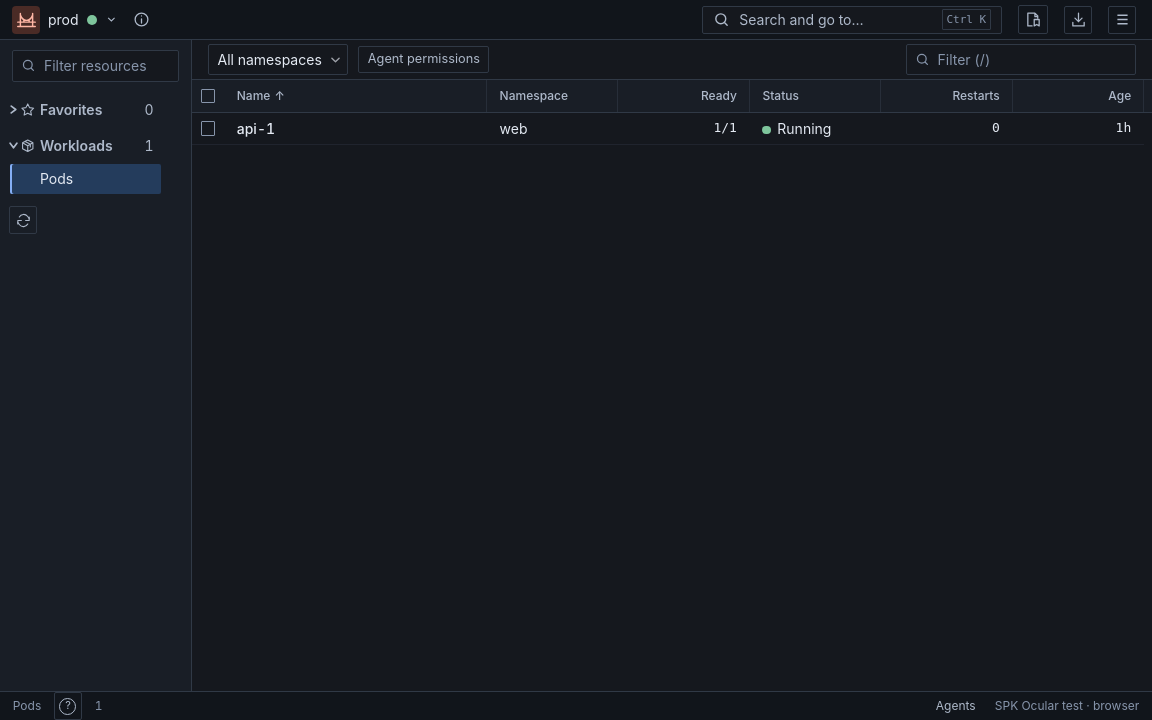
Test: values in the details › a kind with values has the section; the value is read for the object shown (its UID)
The image size is (1152, 720).
Click the text "api-1" at {"x": 256, "y": 128}, box left=237, top=120, right=275, bottom=137
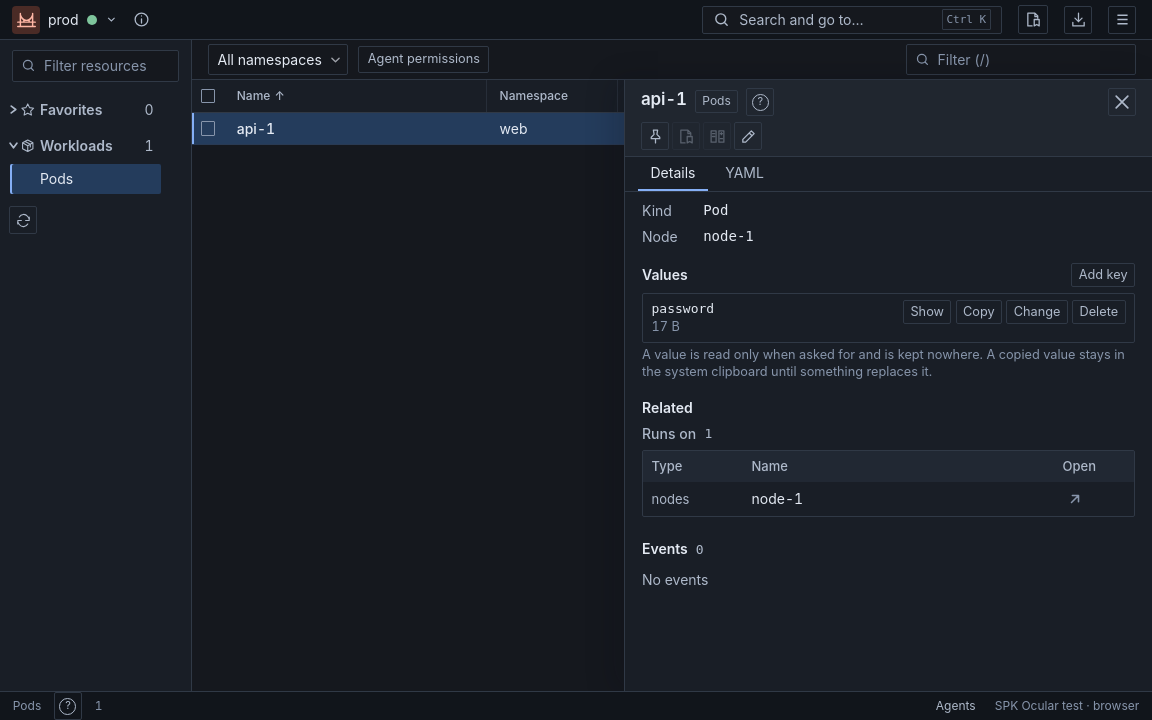
Check: the text "password" is shown, box left=652, top=301, right=714, bottom=316
Click the button "Show" at {"x": 927, "y": 312}, box left=903, top=300, right=951, bottom=324
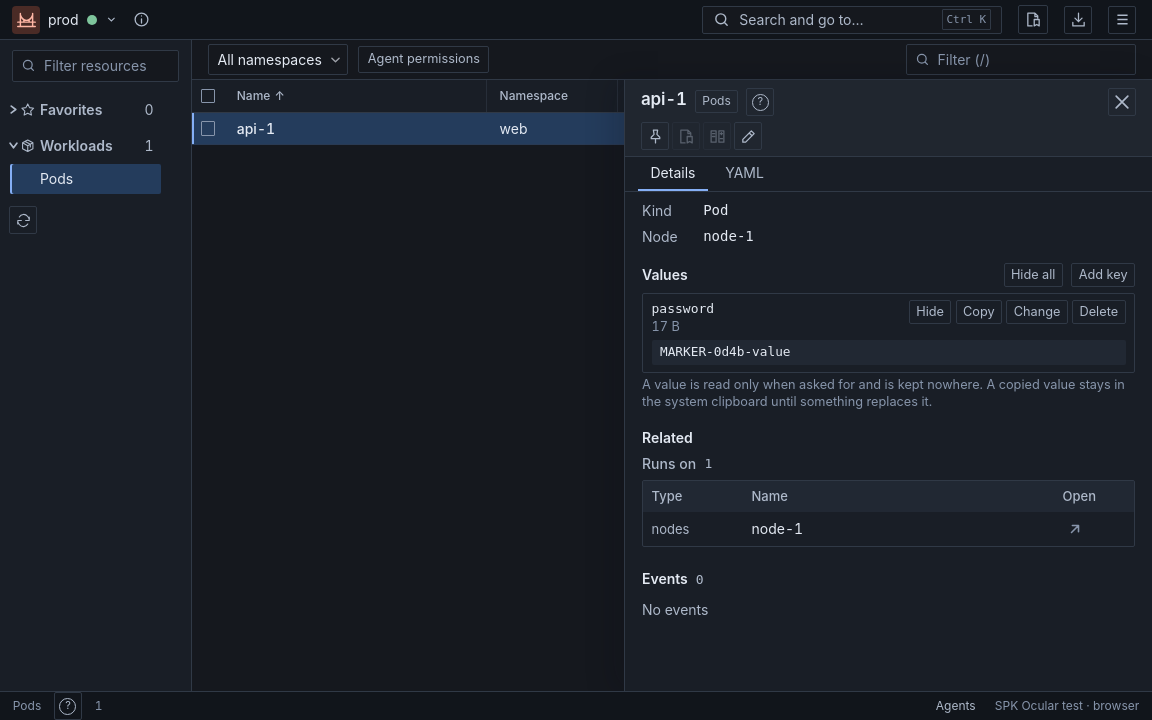
Check: the text "MARKER-0d4b-value" is shown, box left=652, top=340, right=1126, bottom=365
